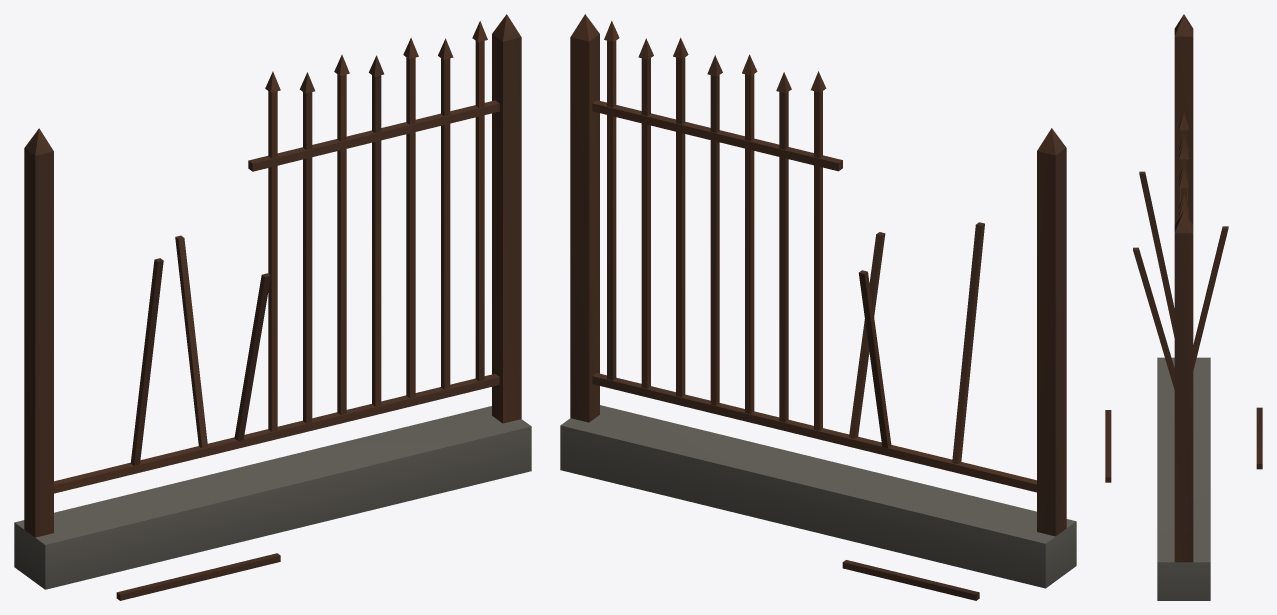
The model's file is fence.iron_broken.rusty.glb.
3 views of the same model, side by side, from view 1: azimuth 30°, elevation 25°; view 2: azimuth 150°, elevation 25°; view 3: azimuth 270°, elevation 25° (orthographic). The views are drawn at different scales.
Visible parts, largest first — view 1: fence_iron_broken_rusty; view 2: fence_iron_broken_rusty; view 3: fence_iron_broken_rusty.
Boxes of the visible parts, x1,y1,x2,y2 form: fence_iron_broken_rusty: [14, 14, 531, 600]; fence_iron_broken_rusty: [560, 14, 1076, 600]; fence_iron_broken_rusty: [1105, 14, 1262, 600].
Size of what is drawn, in the model's own units: 1.82 by 1.6 by 0.59.
